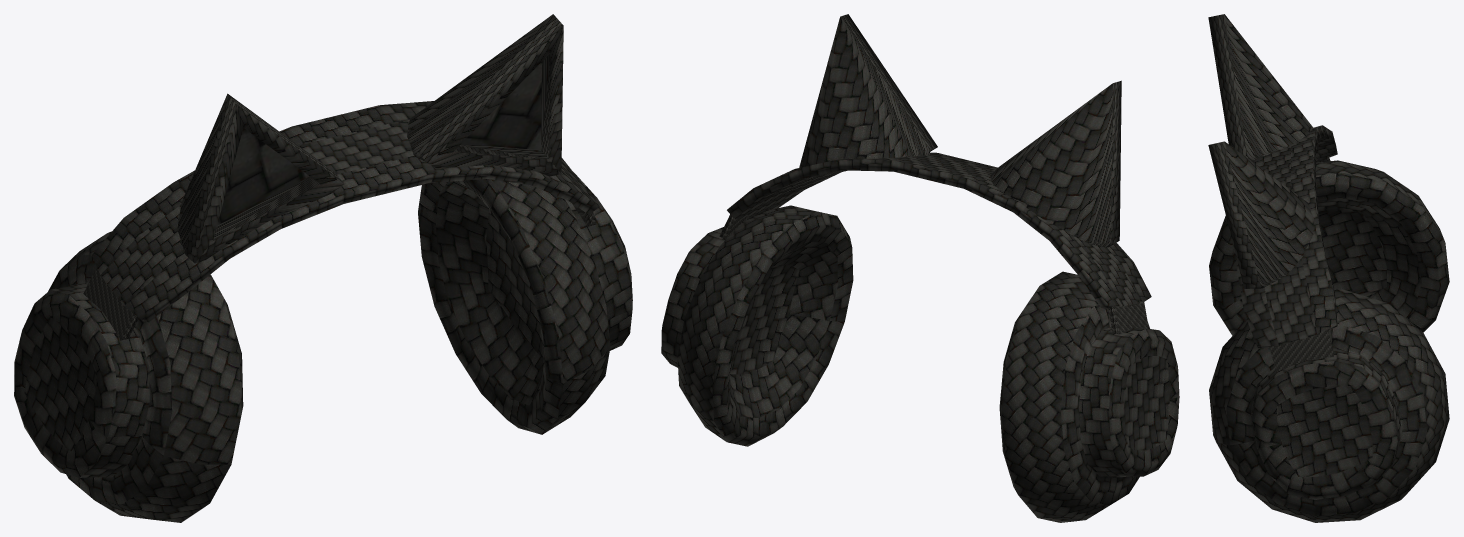
Rendered from HeadPhones.fbx.
The picture shows the model from 3 angles, left to right: view 1: azimuth 30°, elevation 25°; view 2: azimuth 150°, elevation 25°; view 3: azimuth 270°, elevation 25°; orthographic projection. The views are drawn at different scales.
Parts seen in each view (by area): view 1: R_HeadPhone, L_HeadPhone, HeadPhones, L_CatEar, R_CatEar, R_Prolungamento; view 2: L_HeadPhone, R_HeadPhone, R_CatEar, HeadPhones, L_CatEar, R_Prolungamento; view 3: L_HeadPhone, R_HeadPhone, HeadPhones, L_CatEar, R_CatEar, L_Prolungamento.
Part boxes in pixels (x1=…): R_HeadPhone: x1=14, y1=231, x2=243, y2=522; L_HeadPhone: x1=418, y1=172, x2=632, y2=434; HeadPhones: x1=92, y1=101, x2=599, y2=322; L_CatEar: x1=407, y1=14, x2=563, y2=176; R_CatEar: x1=177, y1=93, x2=344, y2=263; R_Prolungamento: x1=83, y1=267, x2=138, y2=340; L_HeadPhone: x1=661, y1=205, x2=853, y2=446; R_HeadPhone: x1=999, y1=271, x2=1179, y2=522; R_CatEar: x1=990, y1=80, x2=1121, y2=247; HeadPhones: x1=727, y1=152, x2=1151, y2=308; L_CatEar: x1=799, y1=14, x2=937, y2=170; R_Prolungamento: x1=1108, y1=302, x2=1148, y2=334; L_HeadPhone: x1=1209, y1=289, x2=1449, y2=522; R_HeadPhone: x1=1209, y1=160, x2=1449, y2=335; HeadPhones: x1=1234, y1=125, x2=1337, y2=348; L_CatEar: x1=1208, y1=141, x2=1313, y2=288; R_CatEar: x1=1208, y1=14, x2=1313, y2=160; L_Prolungamento: x1=1269, y1=330, x2=1333, y2=372.
Size of the model in its own units: 0.9163 by 0.7249 by 0.4288.
